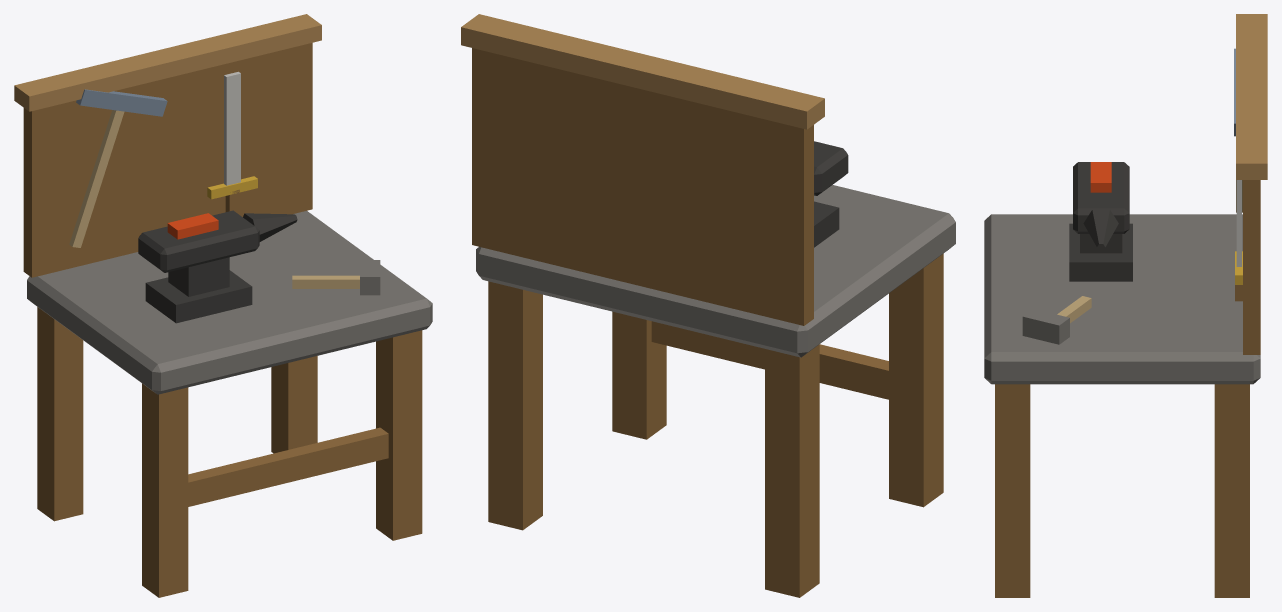
The model's file is wb_tool.fbx.
The picture shows the model from 3 angles, left to right: view 1: azimuth 30°, elevation 25°; view 2: azimuth 150°, elevation 25°; view 3: azimuth 270°, elevation 25°; orthographic projection. The views are drawn at different scales.
Parts seen in each view (by area): view 1: wb_tool; view 2: wb_tool; view 3: wb_tool.
Boxes of the visible parts, x1=… form: wb_tool: x1=14, y1=14, x2=432, y2=597; wb_tool: x1=461, y1=14, x2=955, y2=597; wb_tool: x1=984, y1=14, x2=1267, y2=597.
Bounding box in the file's own units: 3 × 4.13 × 2.4.
